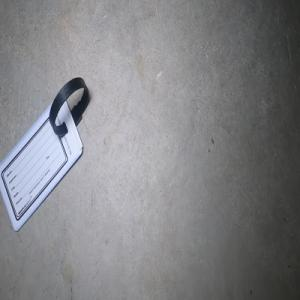LuggageTag: (0, 75, 90, 233)
